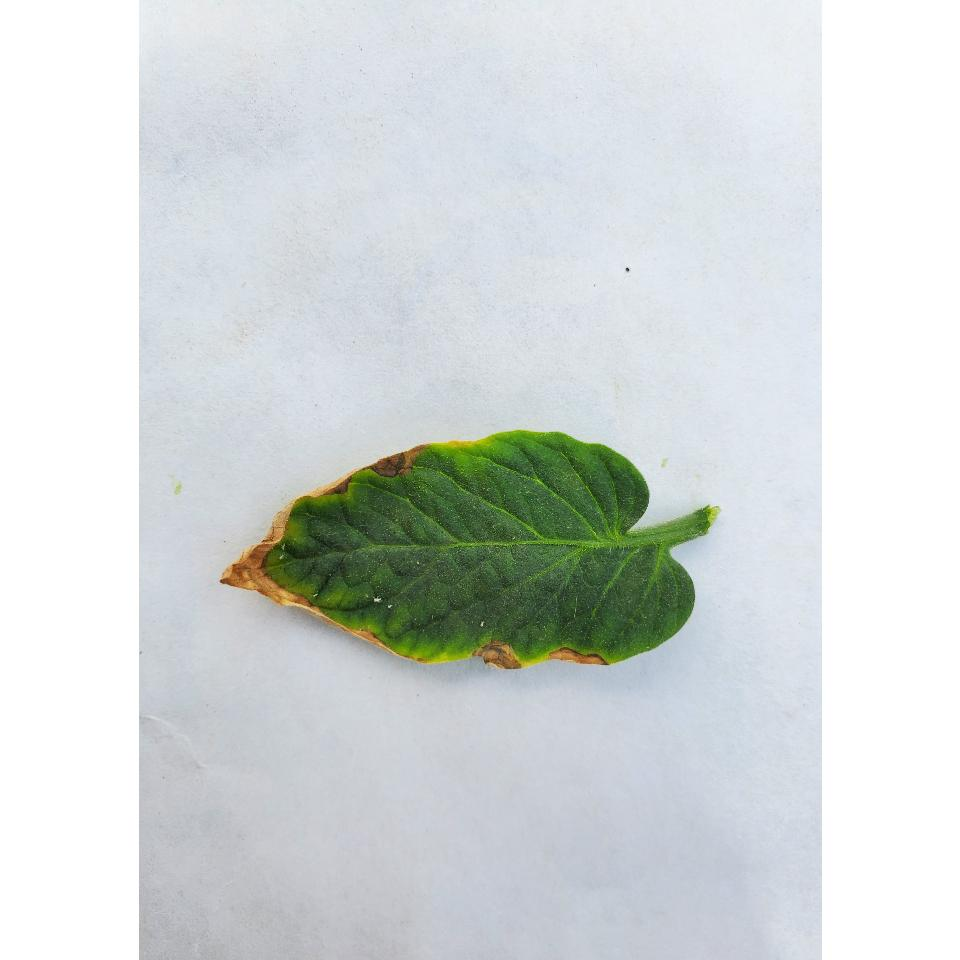tomato_bacterial_blight: (238, 431, 692, 669)
